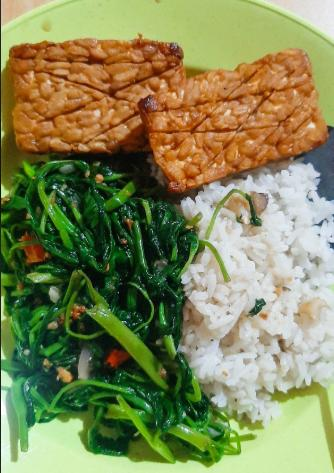buah_sayur_lainnya: (20, 177, 158, 406)
kacang_legume: (21, 48, 137, 144), (176, 87, 312, 143)
makanan_berpati: (224, 184, 320, 373)
